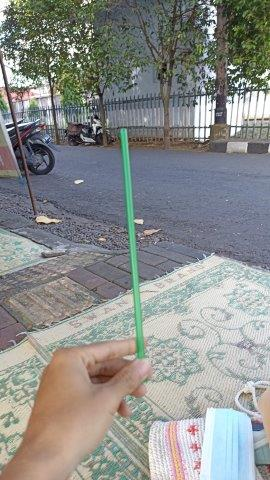sedotan: (120, 127, 143, 358)
